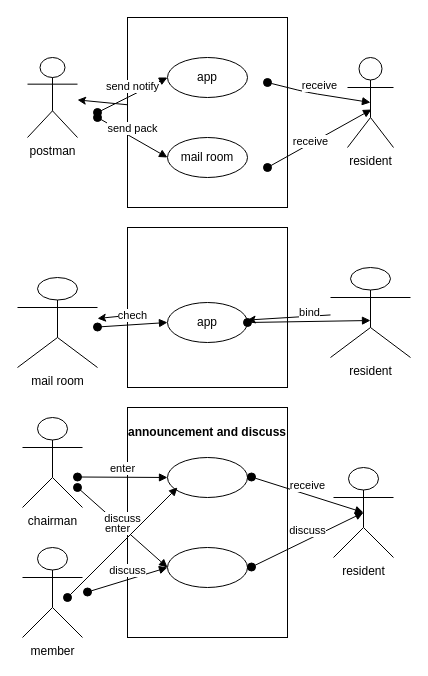
Image size: 428x676. Some labels were removed from this diagram. Each missing label, with the box of its shape:
announcement: (166, 456, 248, 498)
forum: (166, 546, 248, 588)
send and recive: (126, 16, 288, 208)
smarthphone bind app: (126, 226, 288, 388)
